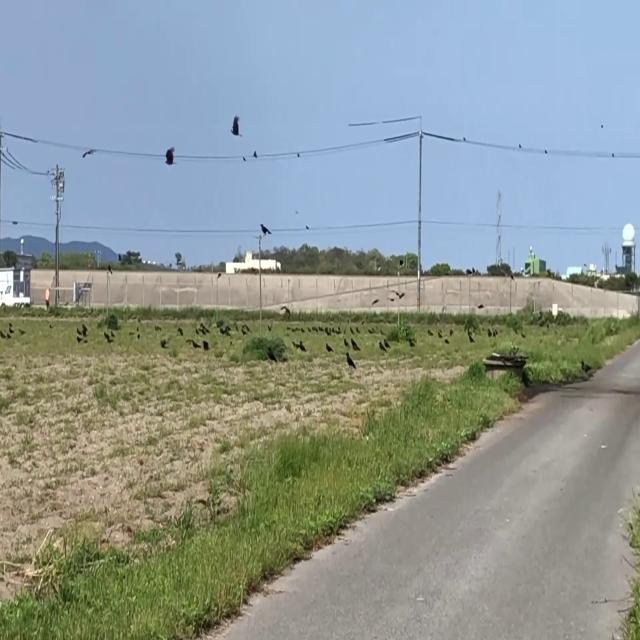bird: (231, 108, 241, 144), (165, 139, 175, 171), (346, 346, 354, 372), (83, 141, 92, 163), (283, 304, 291, 322), (350, 336, 356, 357), (380, 339, 385, 356), (300, 338, 305, 355), (372, 296, 378, 309), (326, 338, 330, 354), (306, 221, 310, 234), (488, 324, 491, 340)
